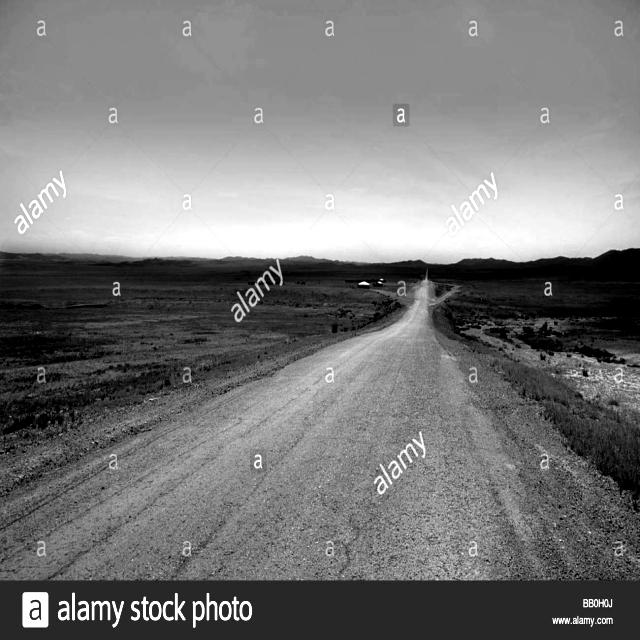cleat: (233, 257, 640, 639)
